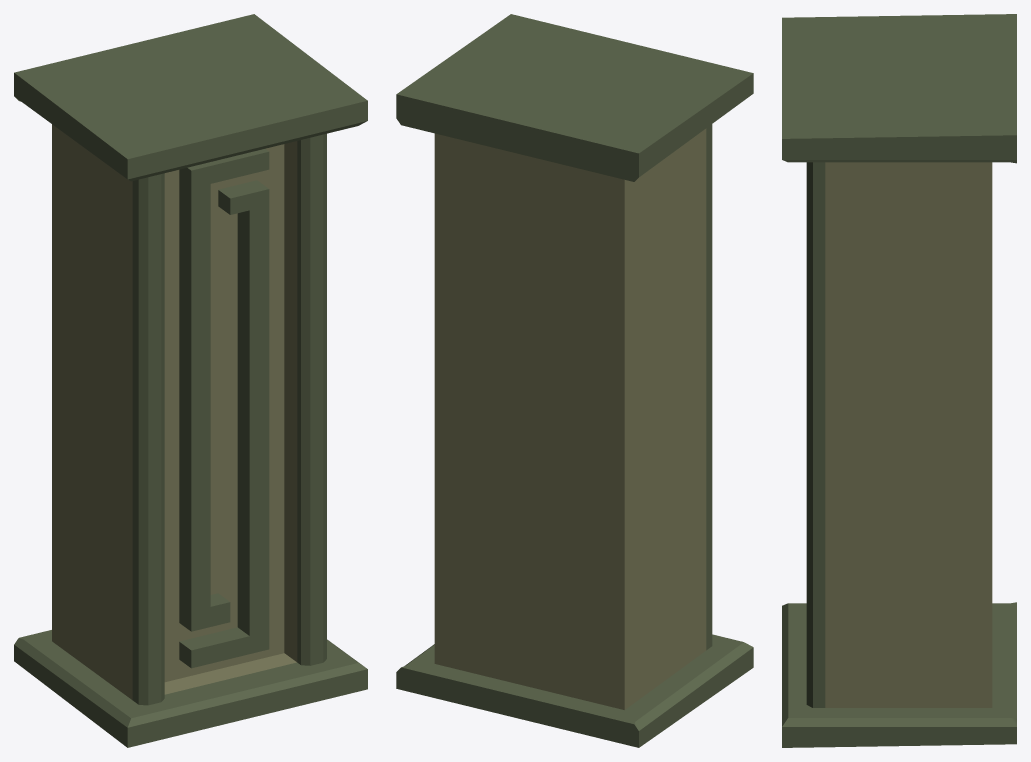
The model's file is temple_pilar.fbx.
3 views of the same model, side by side, from view 1: azimuth 30°, elevation 25°; view 2: azimuth 150°, elevation 25°; view 3: azimuth 270°, elevation 25° (orthographic). The views are drawn at different scales.
Parts seen in each view (by area): view 1: temple_pilar1b, temple_pilar1_decor; view 2: temple_pilar1b; view 3: temple_pilar1b.
Part boxes in pixels (x1,y1,x2,y2): temple_pilar1b: (14, 14, 367, 747); temple_pilar1_decor: (179, 149, 269, 668); temple_pilar1b: (396, 14, 753, 747); temple_pilar1b: (782, 14, 1016, 747).
Size of the model in its own units: 1.31 by 3.08 by 1.07.
